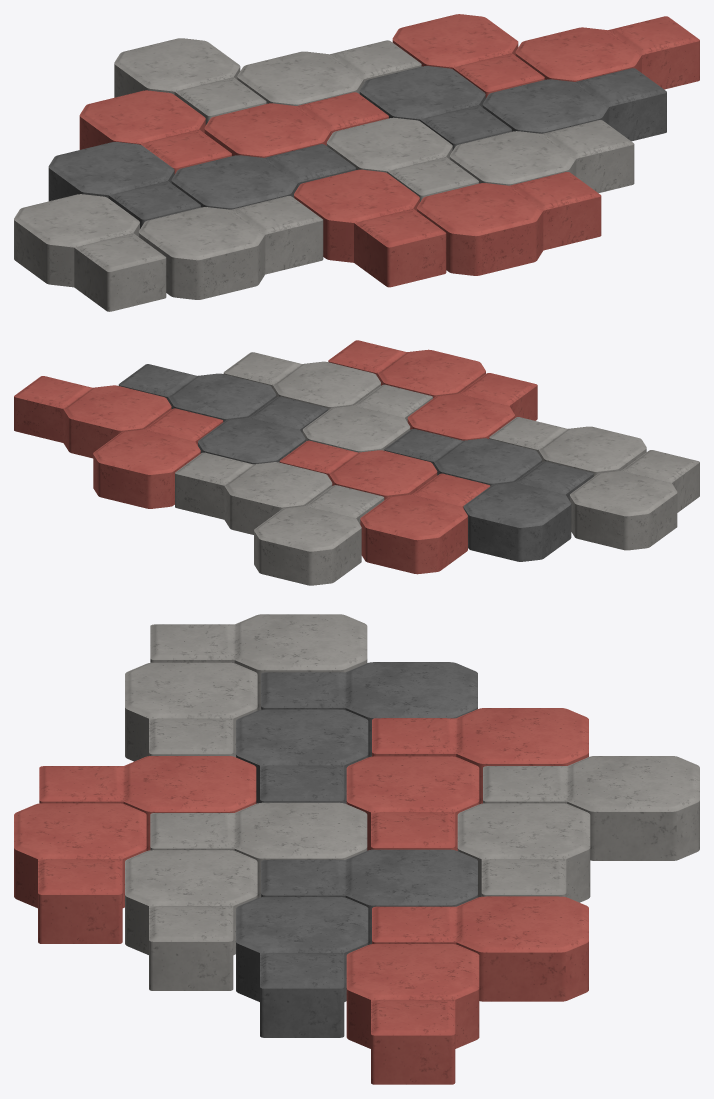
File: Interlock-1.glb
3 renders of one model, top to bottom at view 1: azimuth 30°, elevation 25°; view 2: azimuth 150°, elevation 25°; view 3: azimuth 270°, elevation 25°, orthographic. The views are drawn at different scales.
Visible parts, largest first — view 1: Banjo.021, Banjo.017, Banjo.020, Banjo.016, Banjo.015, Banjo.001, Banjo.003, Banjo.018, Banjo.004, Banjo.010, Banjo.011, Banjo.009 (+4 smaller); view 2: Banjo.020, Banjo.004, Banjo.010, Banjo.018, Banjo.001, Banjo.009, Banjo.005, Banjo.016, Banjo.021, Banjo.011, Banjo.003, Banjo.015 (+4 smaller); view 3: Banjo.001, Banjo.005, Banjo.004, Banjo.017, Banjo.003, Banjo.015, Banjo.009, Banjo.021, Banjo.020, Banjo.010, Banjo.016, Banjo.002 (+4 smaller).
Boxes of the visible parts, left/top/right/bottom form: Banjo.021: left=138, top=196, right=323, bottom=299; Banjo.017: left=417, top=172, right=601, bottom=275; Banjo.020: left=14, top=194, right=166, bottom=311; Banjo.016: left=294, top=169, right=446, bottom=287; Banjo.015: left=449, top=120, right=634, bottom=193; Banjo.001: left=515, top=16, right=699, bottom=89; Banjo.003: left=482, top=68, right=666, bottom=141; Banjo.018: left=48, top=142, right=200, bottom=228; Banjo.004: left=114, top=38, right=266, bottom=125; Banjo.010: left=79, top=90, right=231, bottom=174; Banjo.011: left=204, top=92, right=388, bottom=157; Banjo.009: left=237, top=40, right=421, bottom=105; Banjo.020: left=570, top=450, right=699, bottom=550; Banjo.004: left=254, top=485, right=384, bottom=585; Banjo.010: left=360, top=473, right=489, bottom=574; Banjo.018: left=463, top=461, right=593, bottom=561; Banjo.001: left=14, top=376, right=171, bottom=458; Banjo.009: left=175, top=452, right=332, bottom=534; Banjo.005: left=93, top=408, right=223, bottom=508; Banjo.016: left=407, top=373, right=537, bottom=440; Banjo.021: left=489, top=417, right=646, bottom=476; Banjo.011: left=279, top=440, right=437, bottom=499; Banjo.003: left=118, top=364, right=276, bottom=421; Banjo.015: left=223, top=352, right=380, bottom=410; Banjo.001: left=346, top=944, right=479, bottom=1084; Banjo.005: left=372, top=896, right=588, bottom=1001; Banjo.004: left=483, top=756, right=699, bottom=860; Banjo.017: left=14, top=803, right=146, bottom=943; Banjo.003: left=236, top=897, right=368, bottom=1037; Banjo.015: left=125, top=850, right=257, bottom=990; Banjo.009: left=457, top=803, right=590, bottom=902; Banjo.021: left=125, top=662, right=257, bottom=761; Banjo.020: left=150, top=614, right=367, bottom=710; Banjo.010: left=372, top=708, right=588, bottom=804; Banjo.016: left=39, top=756, right=256, bottom=850; Banjo.002: left=261, top=849, right=477, bottom=944.
Size of the model in its own units: 1.05 by 0.0603 by 0.7226.
3 materials, 3 textured.
